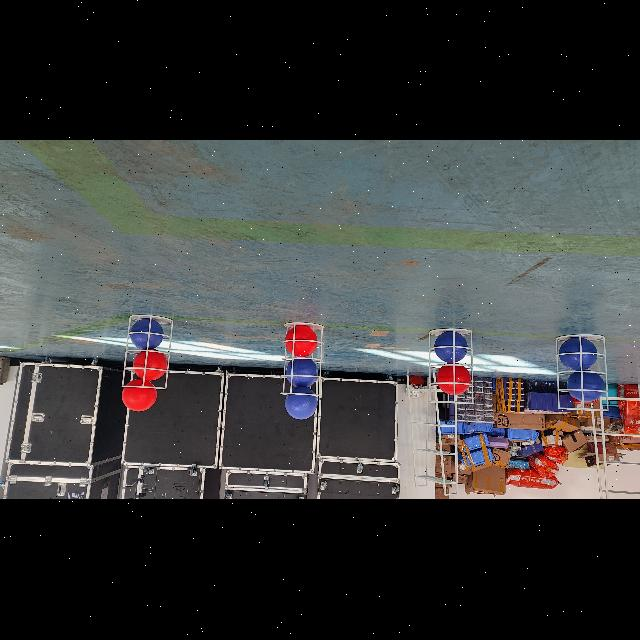B: (558, 338, 598, 370), (566, 371, 606, 403), (284, 387, 318, 421), (129, 321, 165, 352), (436, 332, 468, 364), (286, 358, 318, 388)
R: (121, 381, 157, 413), (134, 350, 168, 382), (437, 366, 471, 396), (286, 327, 318, 358)
S: (118, 312, 178, 394), (552, 332, 612, 412), (424, 327, 478, 405), (276, 320, 328, 400)
